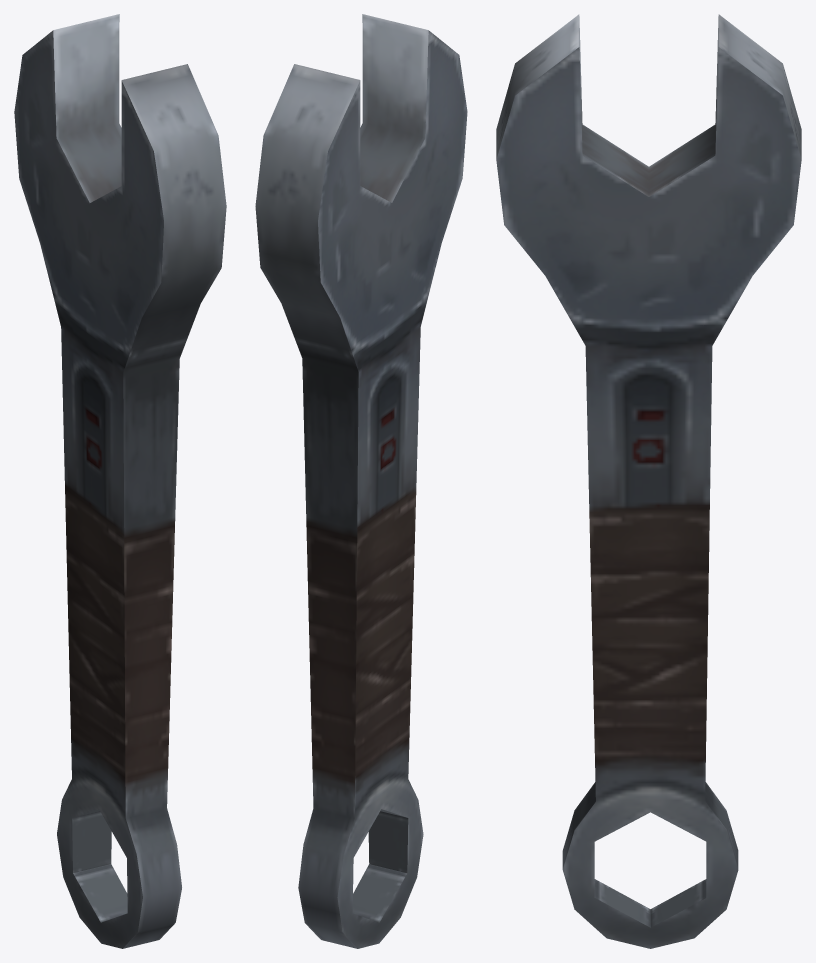
The model's file is Wrench.FBX.
The picture shows the model from 3 angles, left to right: view 1: azimuth 30°, elevation 25°; view 2: azimuth 150°, elevation 25°; view 3: azimuth 270°, elevation 25°; orthographic projection. The views are drawn at different scales.
Visible parts, largest first — view 1: Wrench; view 2: Wrench; view 3: Wrench.
Boxes of the visible parts, left/top/right/bottom form: Wrench: left=14, top=14, right=226, bottom=948; Wrench: left=255, top=14, right=467, bottom=948; Wrench: left=496, top=14, right=801, bottom=948.
Size of the model in its own units: 0.0458 by 0.5898 by 0.1794.
